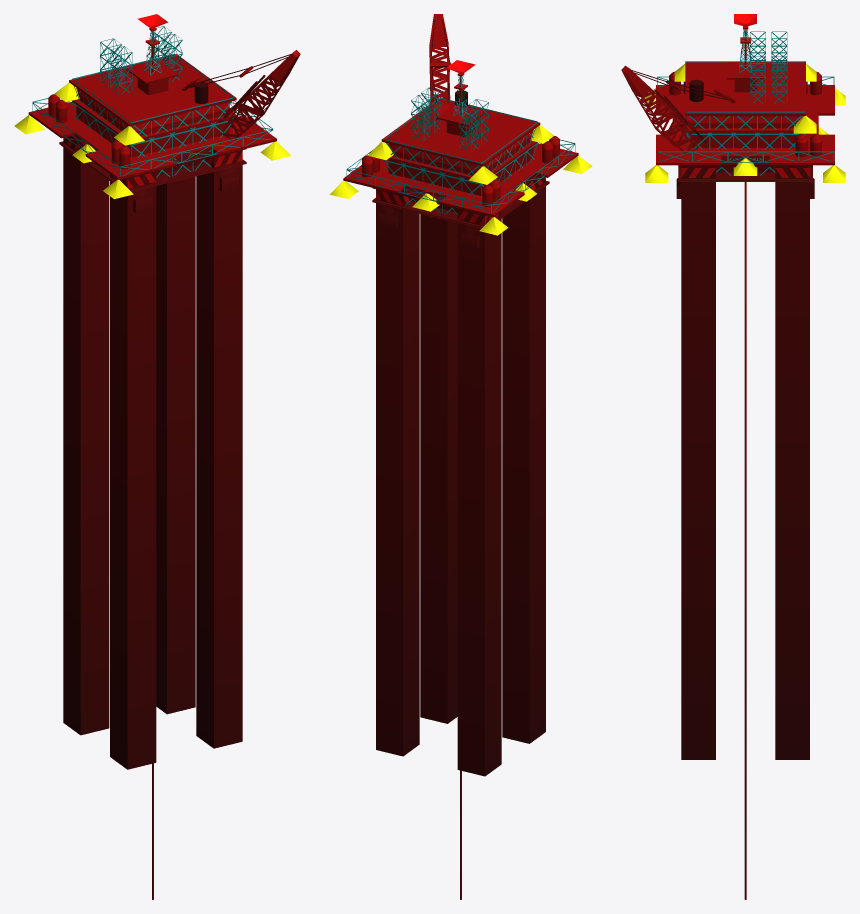
The model's file is buildings-industrial-oilrig_v1.fbx.
3 renders of one model, left to right at view 1: azimuth 30°, elevation 25°; view 2: azimuth 150°, elevation 25°; view 3: azimuth 270°, elevation 25°, orthographic. The views are drawn at different scales.
Visible parts, largest first — view 1: OilRig_base, OilRig_DblSided, OilRig_light; view 2: OilRig_base, OilRig_DblSided, OilRig_light; view 3: OilRig_base, OilRig_DblSided, OilRig_light.
Part boxes in pixels (x1=…): OilRig_base: x1=28, y1=27, x2=300, y2=899; OilRig_DblSided: x1=32, y1=26, x2=273, y2=177; OilRig_light: x1=14, y1=14, x2=291, y2=199; OilRig_base: x1=343, y1=14, x2=578, y2=899; OilRig_DblSided: x1=346, y1=76, x2=575, y2=215; OilRig_light: x1=330, y1=60, x2=592, y2=235; OilRig_base: x1=621, y1=26, x2=834, y2=899; OilRig_DblSided: x1=657, y1=29, x2=834, y2=175; OilRig_light: x1=645, y1=14, x2=845, y2=182.
Size of the model in its own units: 19.38 by 91.69 by 21.19.
